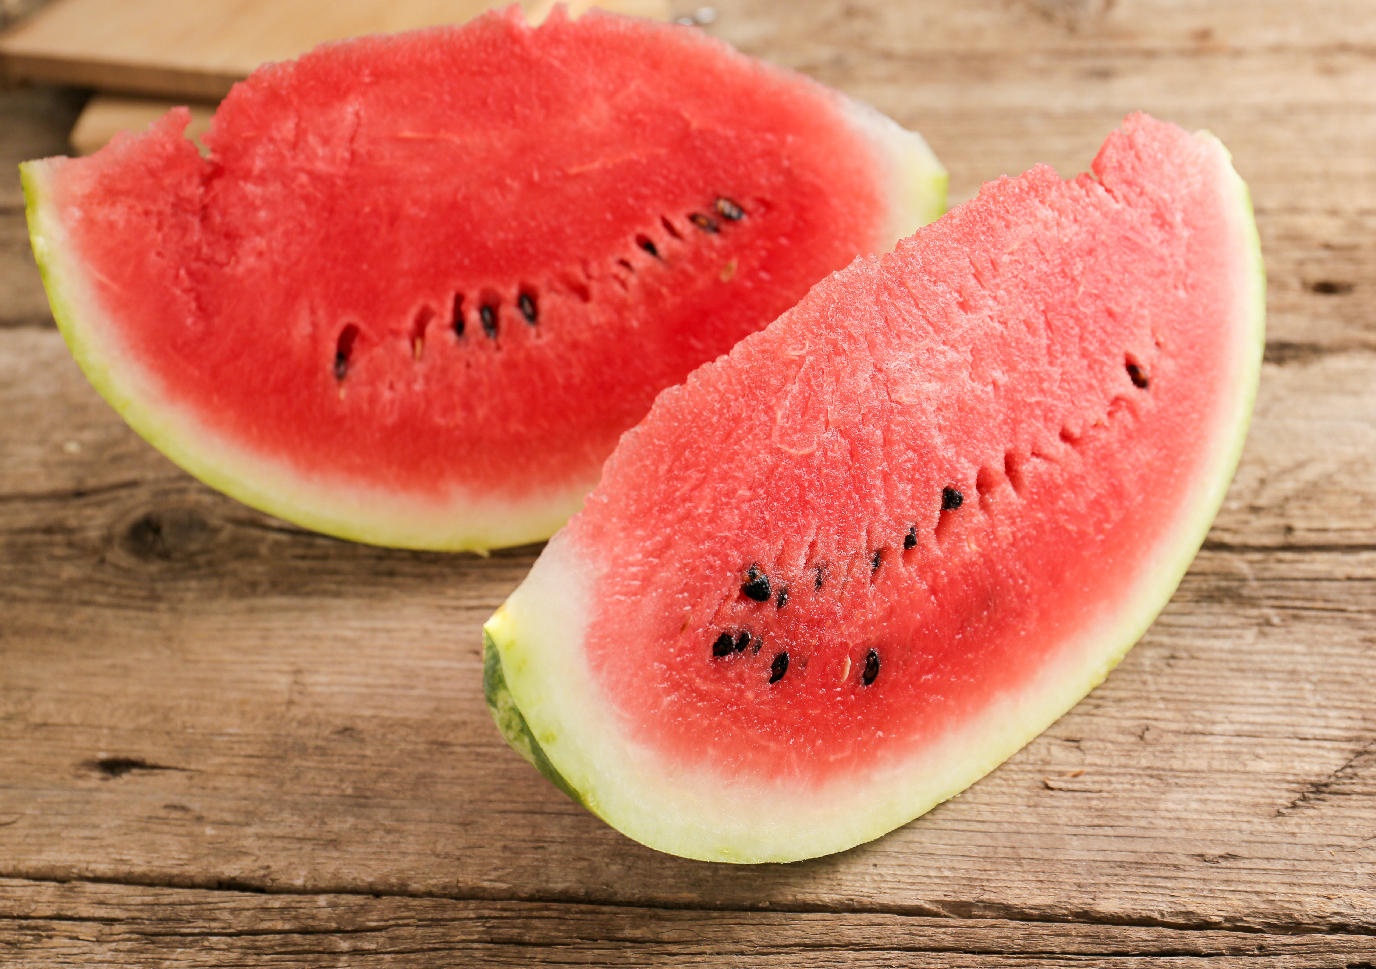Semangka: (475, 92, 1248, 876)
